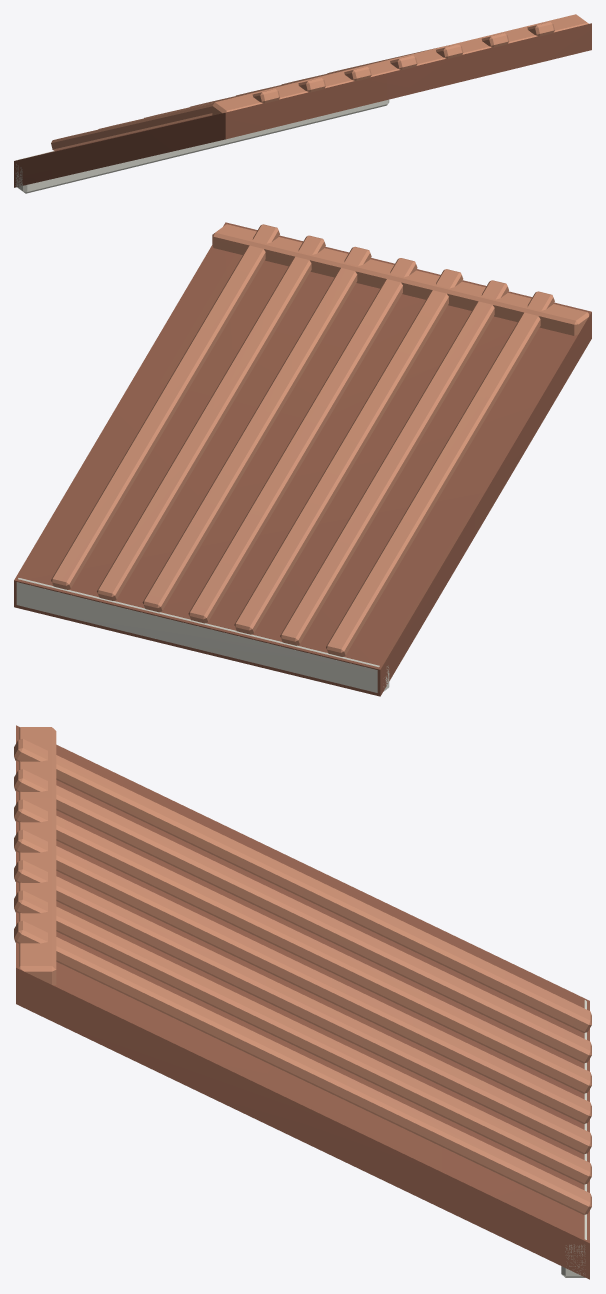
Rendered from Kit_Roof.glb.
3 renders of one model, top to bottom at view 1: azimuth 30°, elevation 25°; view 2: azimuth 150°, elevation 25°; view 3: azimuth 270°, elevation 25°, orthographic. The views are drawn at different scales.
Visible parts, largest first — view 1: Warm terracotta roof tiles, Sunlit clay tile edges, Carved pale limestone; view 2: Warm terracotta roof tiles, Sunlit clay tile edges, Carved pale limestone; view 3: Sunlit clay tile edges, Warm terracotta roof tiles.
Part boxes in pixels (bbox=[...]): Warm terracotta roof tiles: bbox=[14, 23, 591, 187]; Sunlit clay tile edges: bbox=[51, 14, 588, 150]; Carved pale limestone: bbox=[15, 99, 389, 193]; Warm terracotta roof tiles: bbox=[14, 222, 591, 696]; Sunlit clay tile edges: bbox=[51, 224, 588, 656]; Carved pale limestone: bbox=[16, 578, 389, 692]; Sunlit clay tile edges: bbox=[14, 727, 591, 1214]; Warm terracotta roof tiles: bbox=[16, 725, 589, 1279].
Size of the model in its own units: 2 by 1.25 by 2.01.
